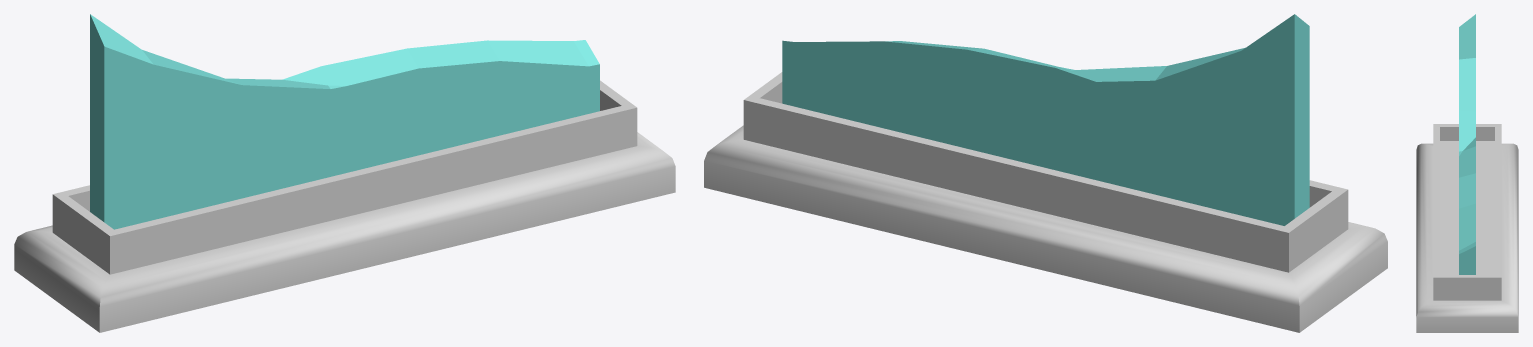
The model's file is Devider Destroyed B.fbx.
3 views of the same model, side by side, from view 1: azimuth 30°, elevation 25°; view 2: azimuth 150°, elevation 25°; view 3: azimuth 270°, elevation 25° (orthographic). The views are drawn at different scales.
Parts seen in each view (by area): view 1: Devider Destroyed B; view 2: Devider Destroyed B; view 3: Devider Destroyed B.
Part boxes in pixels (x1,y1,x2,y2): Devider Destroyed B: (14,14,675,332); Devider Destroyed B: (704,14,1387,332); Devider Destroyed B: (1416,14,1518,332).
Bounding box in the file's own units: 1.16 × 0.5259 × 0.2988.
